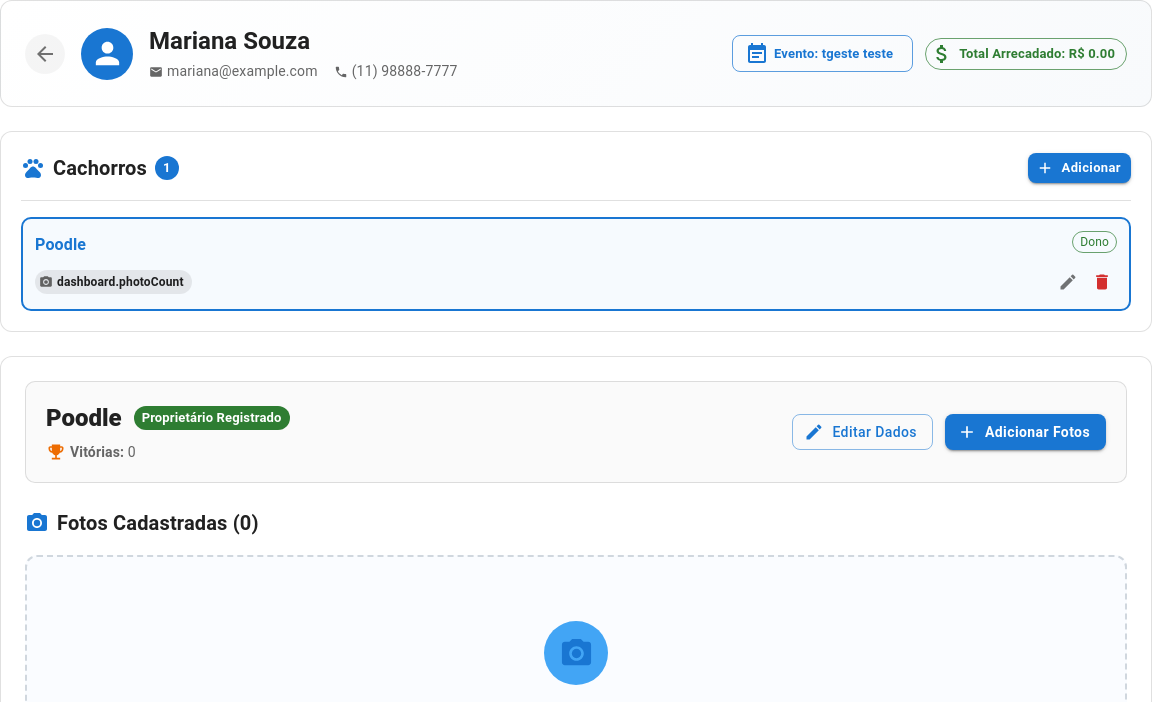
Test: PersonDetailsPage › filters photographer select by active season photographer_ids in add photo dialog
Expected: the heading "Mariana Souza" is shown, 149,27 -> 310,55
Click the button "Adicionar Fotos": [1026, 432] box 945,414 -> 1106,450
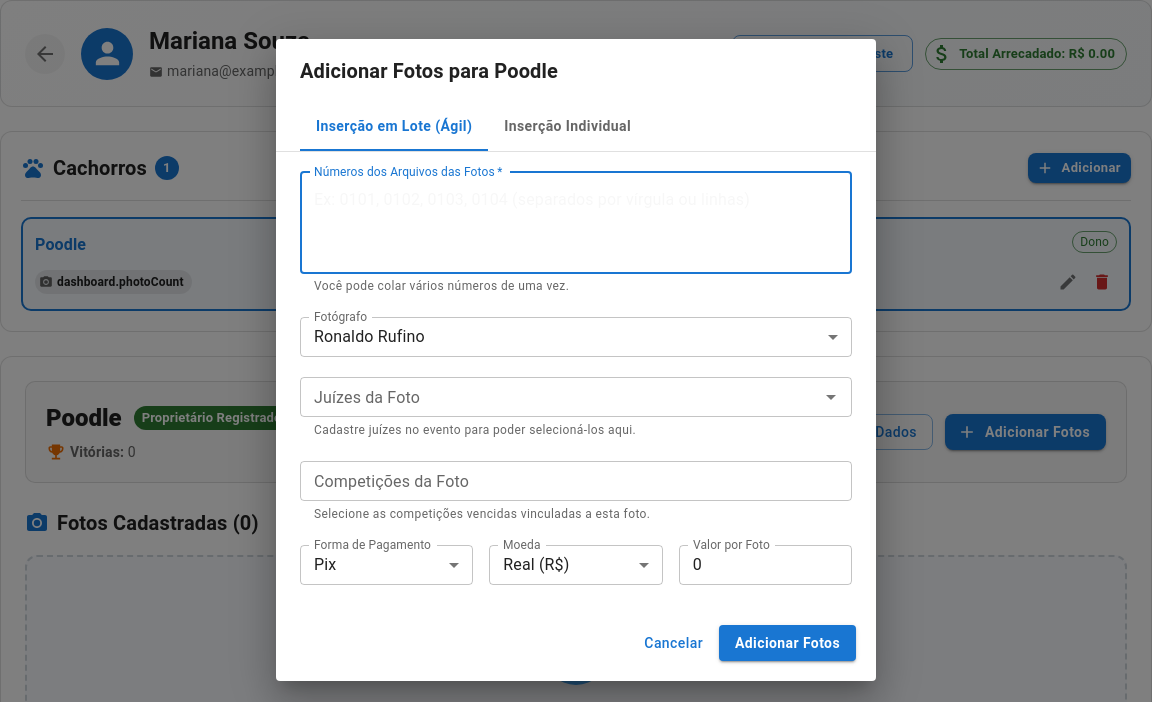
Result: the heading "Adicionar Fotos para Poodle" is shown at 300,59 -> 558,83
Press the mouse on the dropdown named "Fotógrafo": [369, 337] box 314,327 -> 425,346
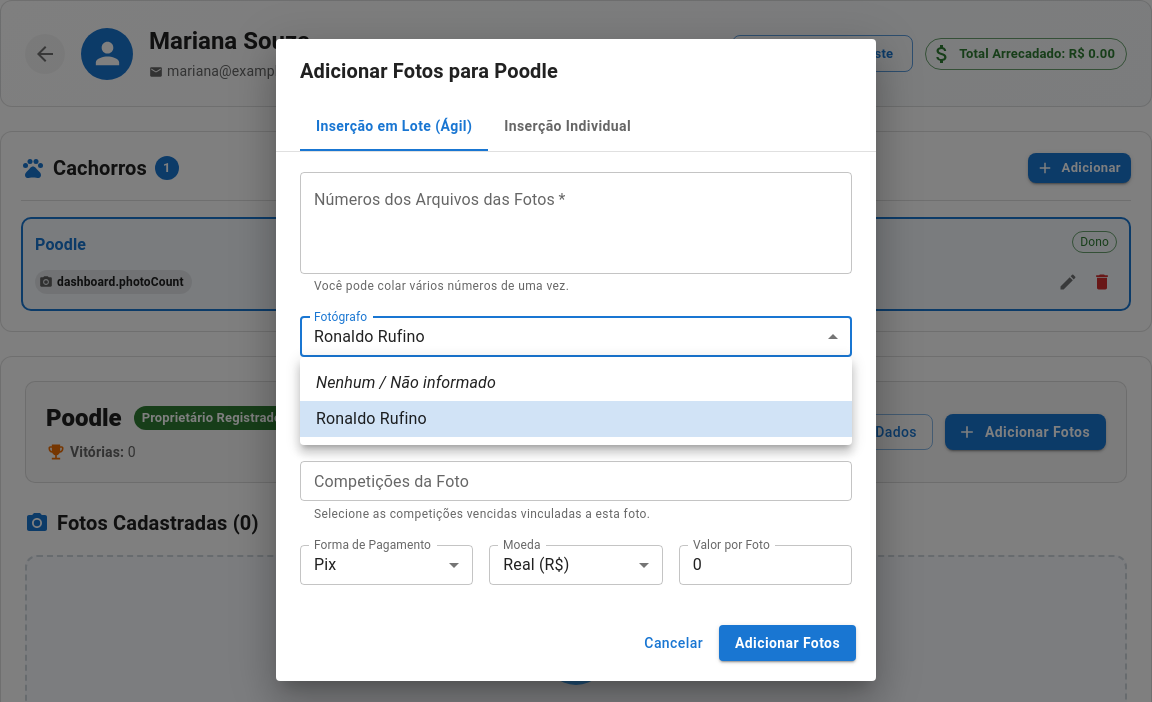
Result: the option "Ronaldo Rufino" is shown at 300,401 -> 852,437
